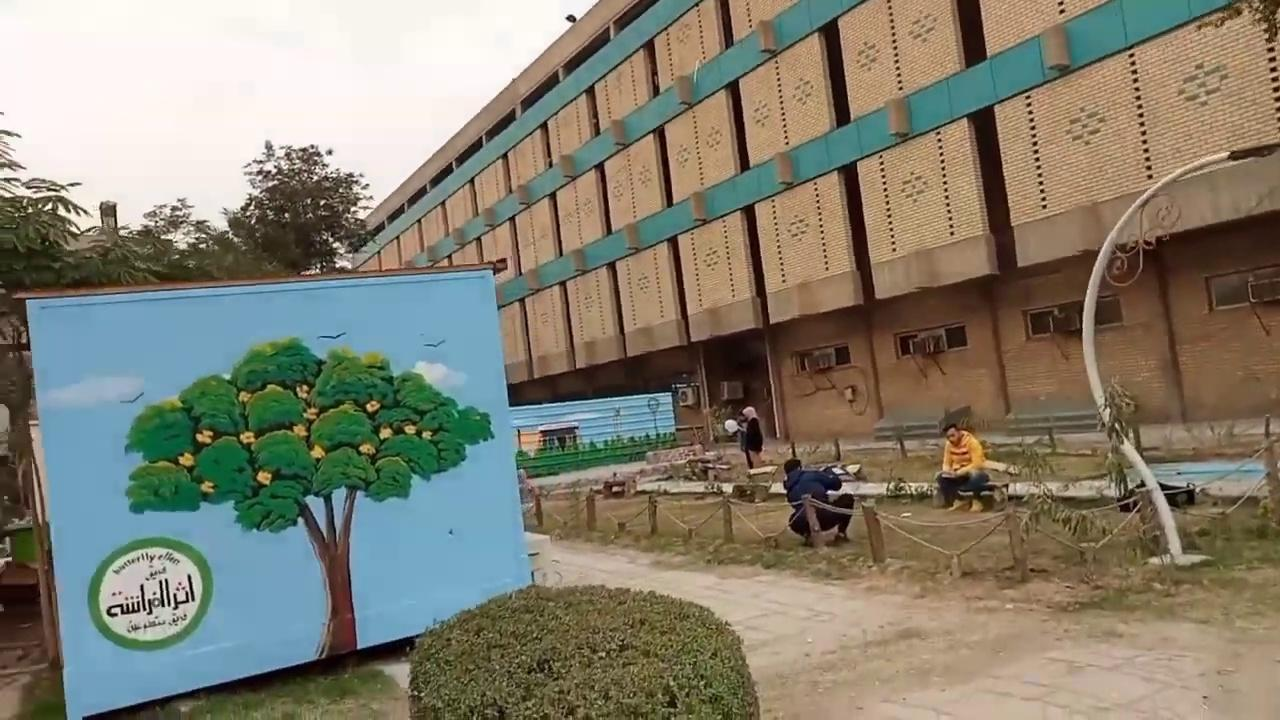person: (782, 457, 854, 546), (937, 423, 989, 511), (738, 405, 764, 469), (517, 468, 536, 516)
tree: (0, 115, 380, 669), (123, 334, 494, 660), (0, 115, 378, 291), (406, 581, 761, 718), (998, 373, 1187, 568), (220, 137, 377, 277), (0, 110, 91, 287), (126, 195, 223, 281), (1095, 373, 1141, 511)
